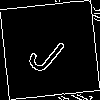J: (25, 25, 74, 77)
